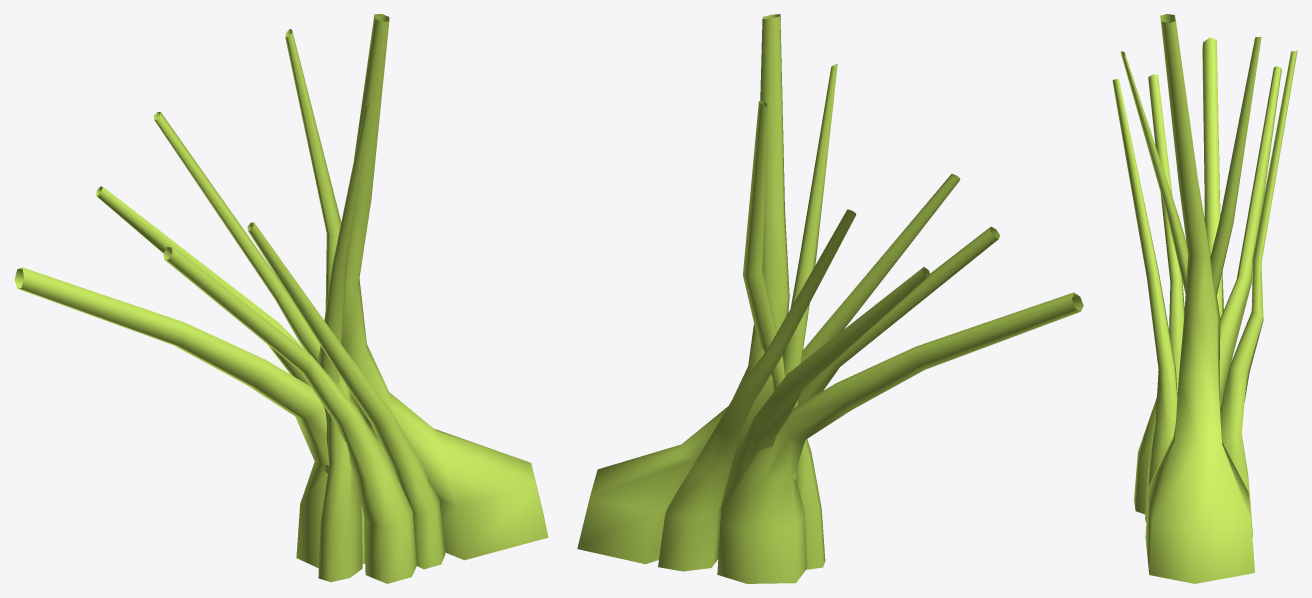
Rendered from savTreeCypressSmall.fbx.
The picture shows the model from 3 angles, left to right: view 1: azimuth 30°, elevation 25°; view 2: azimuth 150°, elevation 25°; view 3: azimuth 270°, elevation 25°; orthographic projection. The views are drawn at different scales.
Parts seen in each view (by area): view 1: savTreeCypressSmall_LOD0; view 2: savTreeCypressSmall_LOD0; view 3: savTreeCypressSmall_LOD0.
Boxes of the visible parts, box(x1,y1,x2,y2) form: savTreeCypressSmall_LOD0: box(14, 14, 548, 583); savTreeCypressSmall_LOD0: box(577, 14, 1083, 583); savTreeCypressSmall_LOD0: box(1112, 14, 1297, 583).
Size of what is drawn, in the model's own units: 555 by 566 by 193.
